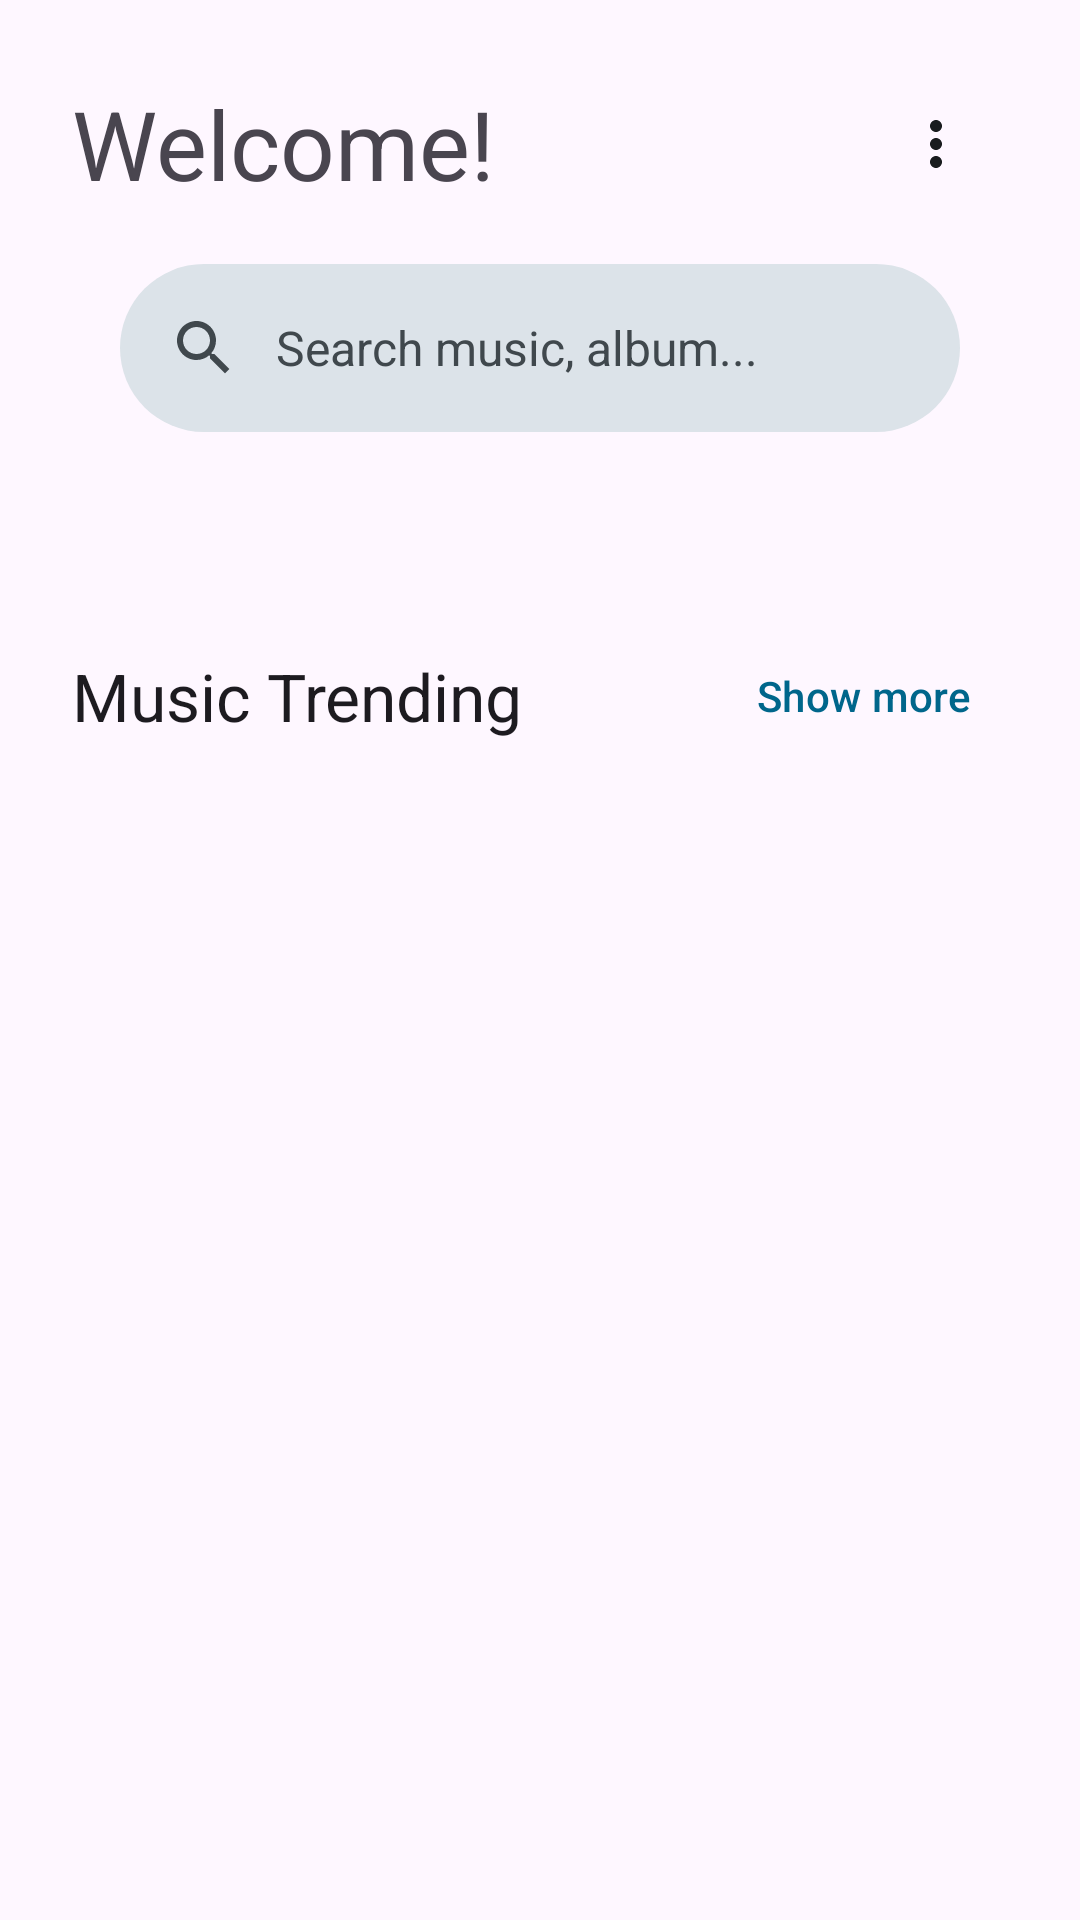

Point at icon controls on the screen. Image size 1080px×1920px, points as point (x, y).
more vert: point (936, 144)
